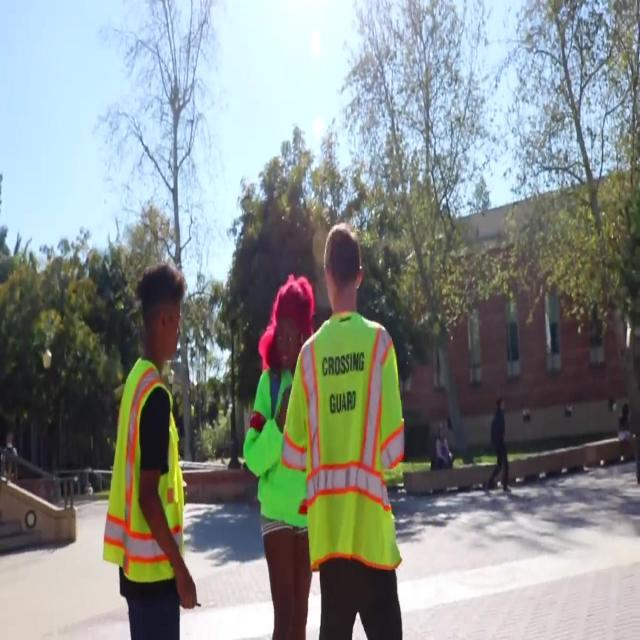Reflective-Jacket: (291, 309, 410, 585), (95, 353, 193, 594)
